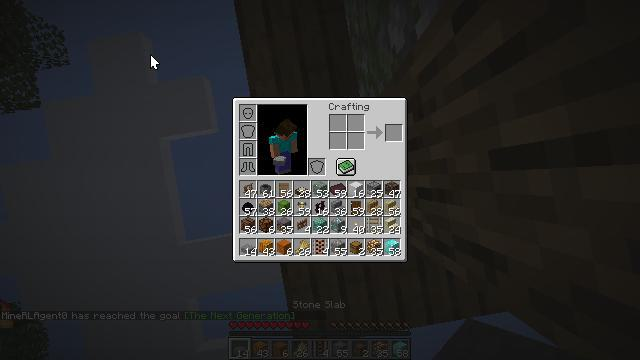cursor: (150, 54, 160, 70)
